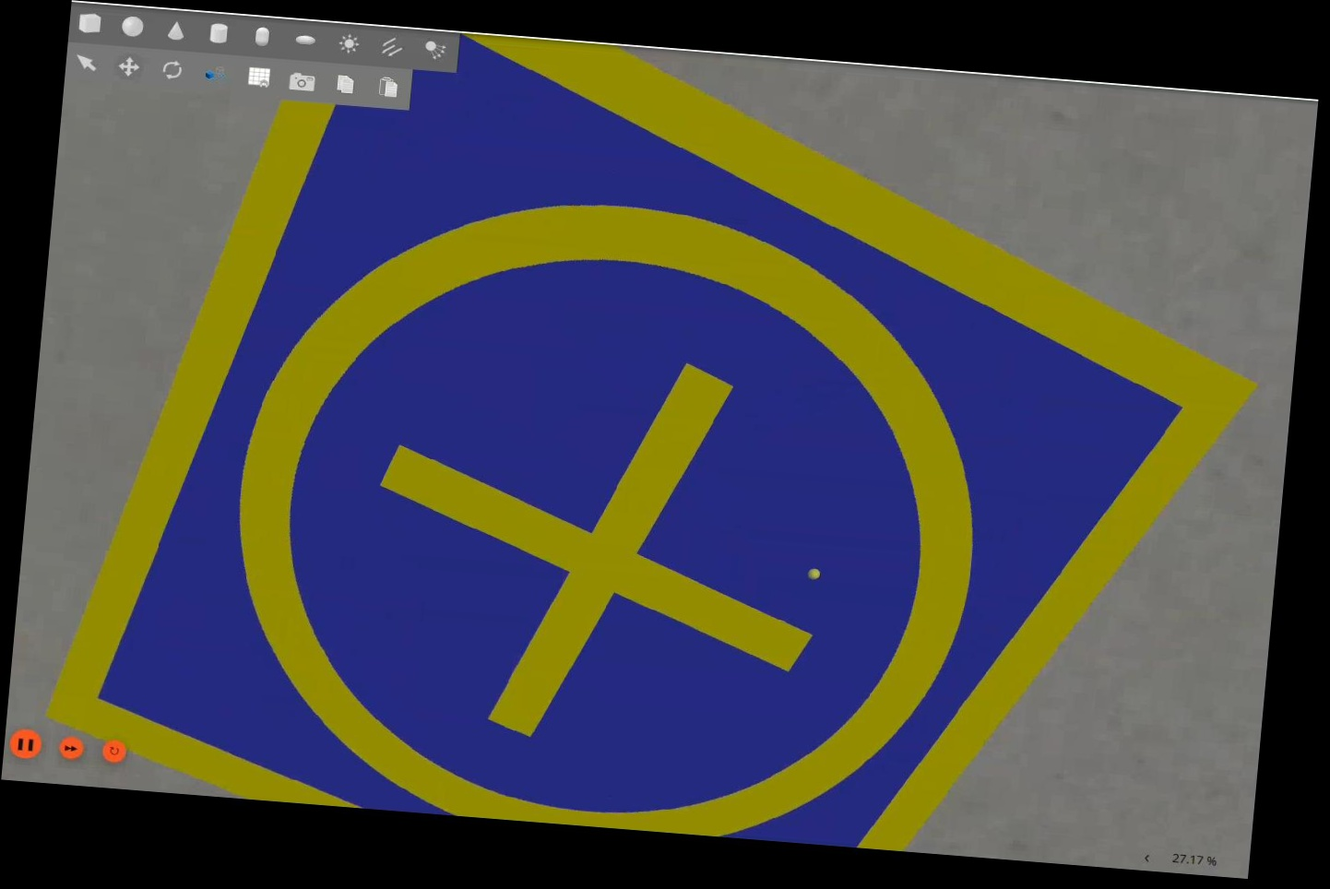small_base: (43, 4, 1277, 877)
